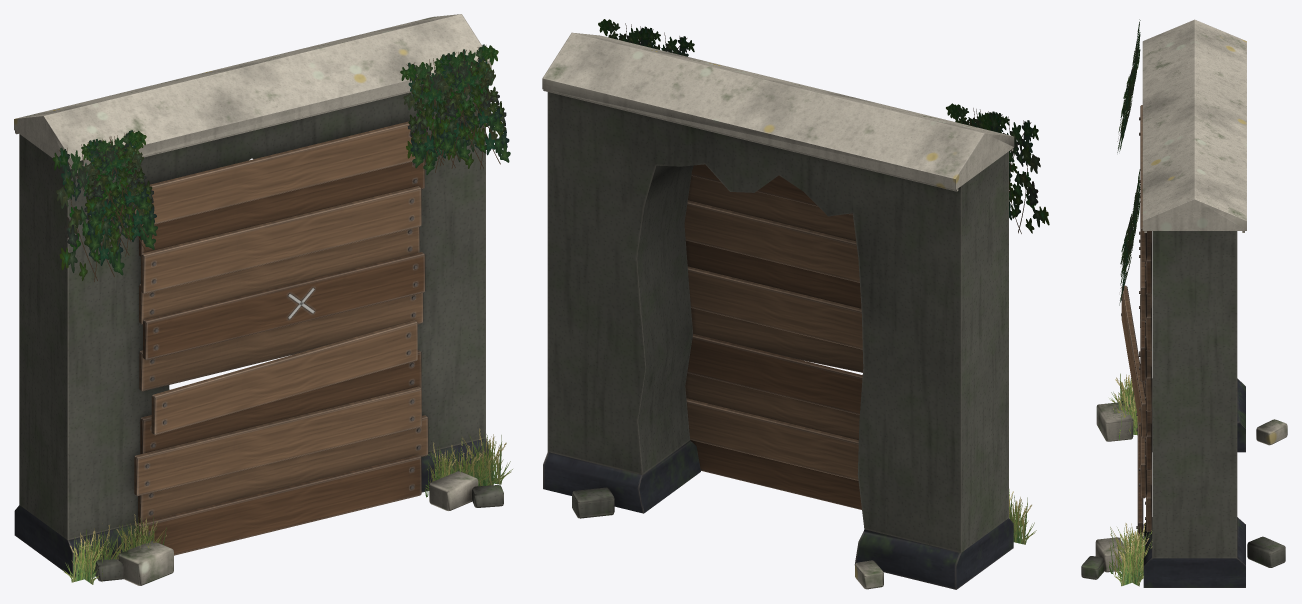
File: SneakWallHole.fbx
3 views of the same model, side by side, from view 1: azimuth 30°, elevation 25°; view 2: azimuth 150°, elevation 25°; view 3: azimuth 270°, elevation 25° (orthographic). The views are drawn at different scales.
Visible parts, largest first — view 1: SneakWallHole_Main, SneakWallHole_Leaves, SneakWallHole_Board2, SneakWallHole_Board6, SneakWallHole_Board8, SneakWallHole_Board4, SneakWallHole_Board0, SneakWallHole_Board10, SneakWallHole_Board5, SneakWallHole_Board1, SneakWallHole_Board7, SneakWallHole_Board9 (+1 smaller); view 2: SneakWallHole_Main, SneakWallHole_Board5, SneakWallHole_Board7, SneakWallHole_Board3, SneakWallHole_Board1, SneakWallHole_Leaves, SneakWallHole_Board0, SneakWallHole_Board6, SneakWallHole_Board2, SneakWallHole_Board4, SneakWallHole_Board8, SneakWallHole_Board9; view 3: SneakWallHole_Main, SneakWallHole_Leaves, SneakWallHole_Board4, SneakWallHole_Board10, SneakWallHole_Board0, SneakWallHole_Board2, SneakWallHole_Board6, SneakWallHole_Board9, SneakWallHole_Board1, SneakWallHole_Board5, SneakWallHole_Board8, SneakWallHole_Board7 (+1 smaller).
Boxes of the visible parts, x1,y1,x2,y2 form: SneakWallHole_Main: [14, 14, 503, 585]; SneakWallHole_Leaves: [52, 44, 512, 584]; SneakWallHole_Board2: [134, 386, 421, 496]; SneakWallHole_Board6: [143, 252, 425, 360]; SneakWallHole_Board8: [141, 186, 421, 293]; SneakWallHole_Board4: [151, 320, 417, 435]; SneakWallHole_Board0: [136, 455, 421, 555]; SneakWallHole_Board10: [132, 121, 419, 225]; SneakWallHole_Board5: [139, 293, 423, 391]; SneakWallHole_Board1: [138, 415, 428, 522]; SneakWallHole_Board7: [139, 227, 419, 324]; SneakWallHole_Board9: [139, 157, 424, 256]; SneakWallHole_Main: [542, 32, 1014, 589]; SneakWallHole_Board5: [687, 266, 862, 349]; SneakWallHole_Board7: [684, 200, 859, 282]; SneakWallHole_Board3: [687, 334, 862, 414]; SneakWallHole_Board1: [686, 398, 858, 480]; SneakWallHole_Leaves: [598, 19, 1049, 544]; SneakWallHole_Board0: [690, 440, 861, 509]; SneakWallHole_Board6: [685, 240, 861, 308]; SneakWallHole_Board2: [685, 373, 859, 440]; SneakWallHole_Board4: [691, 308, 863, 372]; SneakWallHole_Board8: [688, 176, 855, 241]; SneakWallHole_Board9: [691, 164, 852, 214]; SneakWallHole_Main: [1081, 19, 1287, 587]; SneakWallHole_Leaves: [1109, 19, 1152, 586]; SneakWallHole_Board4: [1121, 285, 1146, 437]; SneakWallHole_Board10: [1139, 105, 1145, 262]; SneakWallHole_Board0: [1136, 413, 1143, 547]; SneakWallHole_Board2: [1139, 354, 1145, 498]; SneakWallHole_Board6: [1139, 239, 1145, 381]; SneakWallHole_Board9: [1145, 231, 1151, 294]; SneakWallHole_Board1: [1145, 469, 1151, 531]; SneakWallHole_Board5: [1145, 350, 1151, 411]; SneakWallHole_Board8: [1139, 180, 1145, 321]; SneakWallHole_Board7: [1145, 294, 1151, 351].
Bounding box in the file's own units: 860 × 805 × 387.
